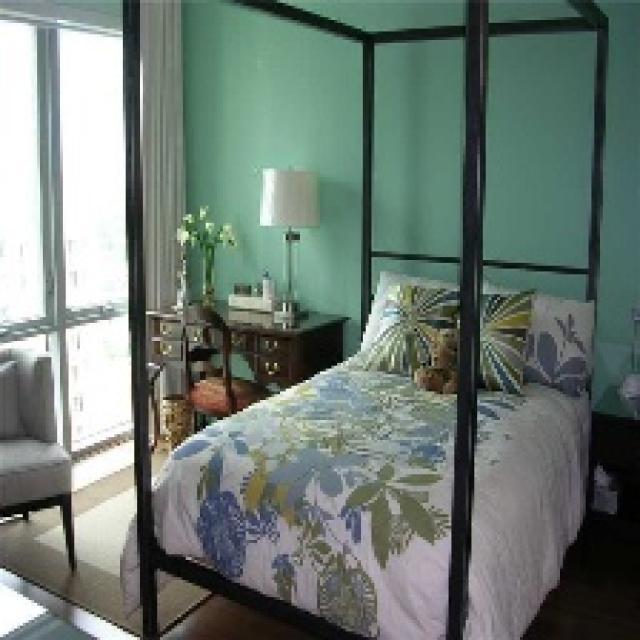Bed: (120, 0, 609, 637)
